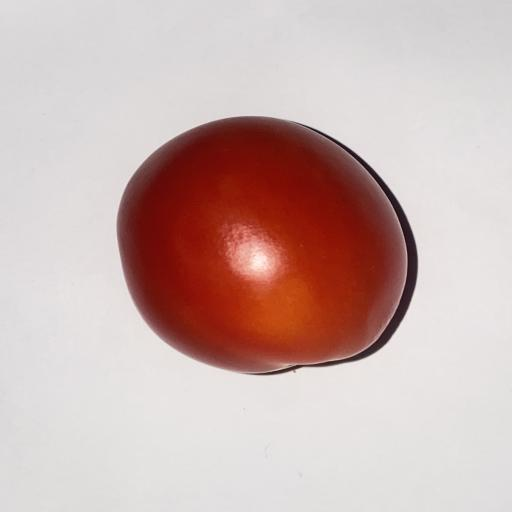ripe: (118, 117, 407, 373)
